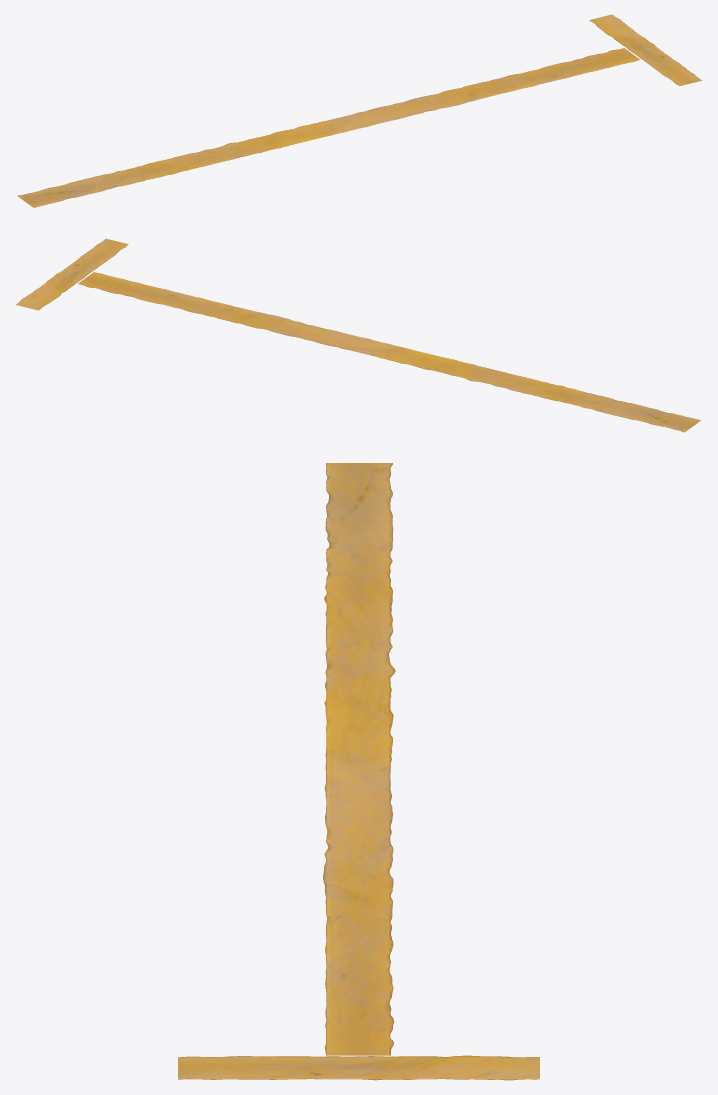
Rendered from MB_Parking_Line_02.fbx.
The picture shows the model from 3 angles, top to bottom: view 1: azimuth 30°, elevation 25°; view 2: azimuth 150°, elevation 25°; view 3: azimuth 270°, elevation 25°; orthographic projection. The views are drawn at different scales.
Parts seen in each view (by area): view 1: MB_Parking_Line_02; view 2: MB_Parking_Line_02; view 3: MB_Parking_Line_02.
Boxes of the visible parts, x1,y1,x2,y2 form: MB_Parking_Line_02: (17, 14, 702, 207); MB_Parking_Line_02: (16, 238, 700, 432); MB_Parking_Line_02: (178, 463, 539, 1080).
Bounding box in the file's own units: 214 × 0.0738 × 53.09.
